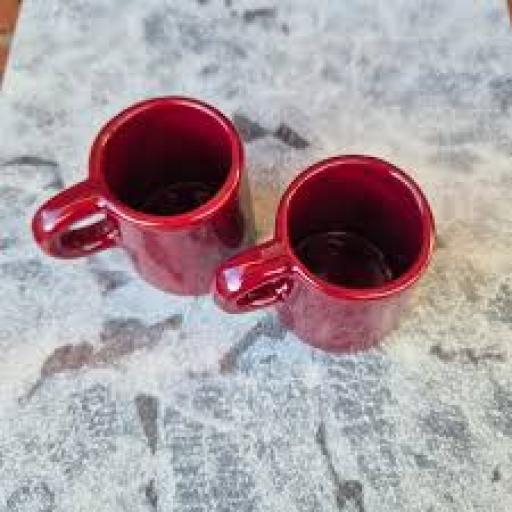red mug: (32, 96, 250, 294), (216, 155, 432, 348)
